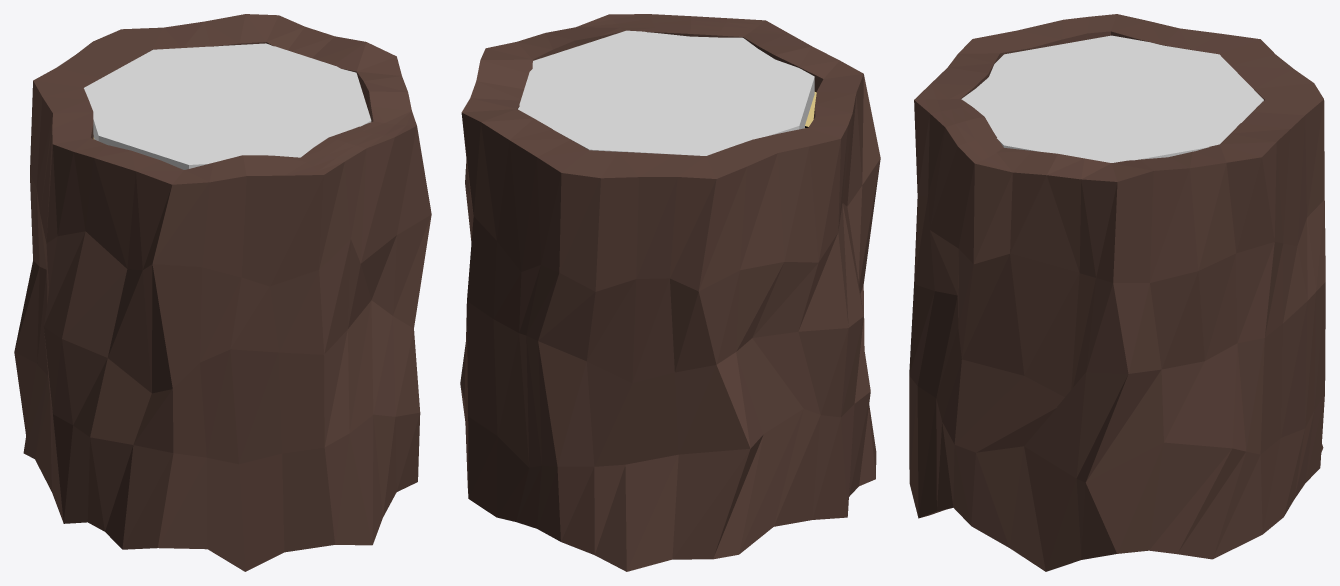
File: Log 1.fbx
The picture shows the model from 3 angles, left to right: view 1: azimuth 30°, elevation 25°; view 2: azimuth 150°, elevation 25°; view 3: azimuth 270°, elevation 25°; orthographic projection. The views are drawn at different scales.
Visible parts, largest first — view 1: Cylinder.002, Cylinder; view 2: Cylinder.002, Cylinder; view 3: Cylinder.002, Cylinder.
Boxes of the visible parts, x1=… form: Cylinder.002: x1=14, y1=14, x2=431, y2=571; Cylinder: x1=84, y1=43, x2=371, y2=169; Cylinder.002: x1=460, y1=14, x2=880, y2=571; Cylinder: x1=518, y1=30, x2=814, y2=155; Cylinder.002: x1=909, y1=14, x2=1325, y2=571; Cylinder: x1=961, y1=35, x2=1263, y2=162.
Size of the model in its own units: 207 by 223 by 205.
